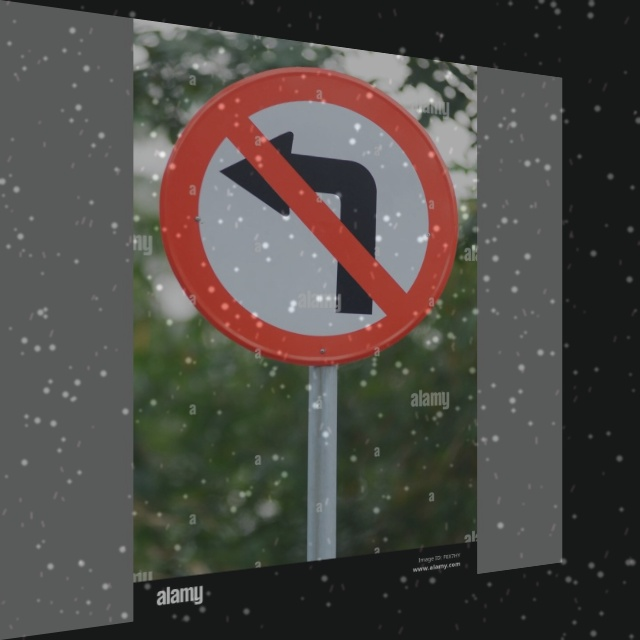Left_Turn_Prohibited: (157, 49, 459, 366)
